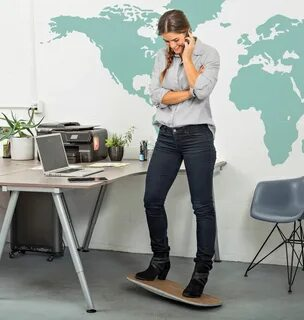awake: (134, 8, 221, 299)
